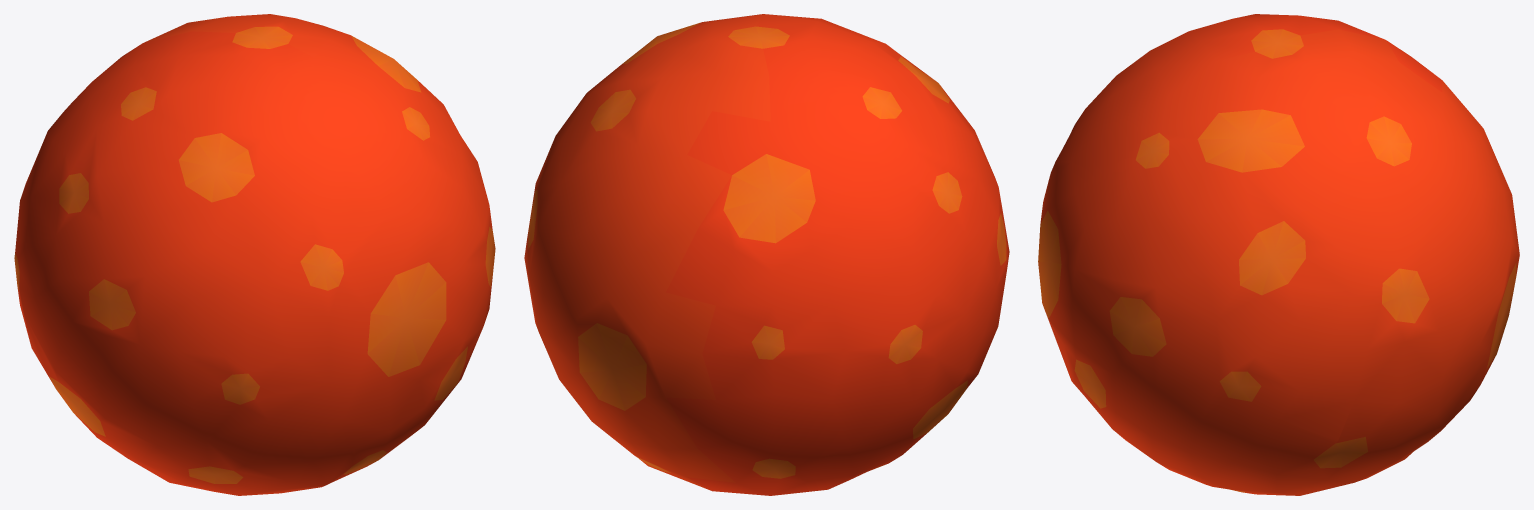
File: mars.glb
3 renders of one model, left to right at view 1: azimuth 30°, elevation 25°; view 2: azimuth 150°, elevation 25°; view 3: azimuth 270°, elevation 25°, orthographic.
Visible parts, largest first — view 1: Mars; view 2: Mars; view 3: Mars.
Part boxes in pixels (x1,y1,x2,y2): Mars: [14, 14, 495, 495]; Mars: [524, 14, 1009, 495]; Mars: [1038, 14, 1519, 495].
Size of the model in its own units: 0.1684 by 0.1669 by 0.1681.
Materials: 1 (1 with a texture image).
